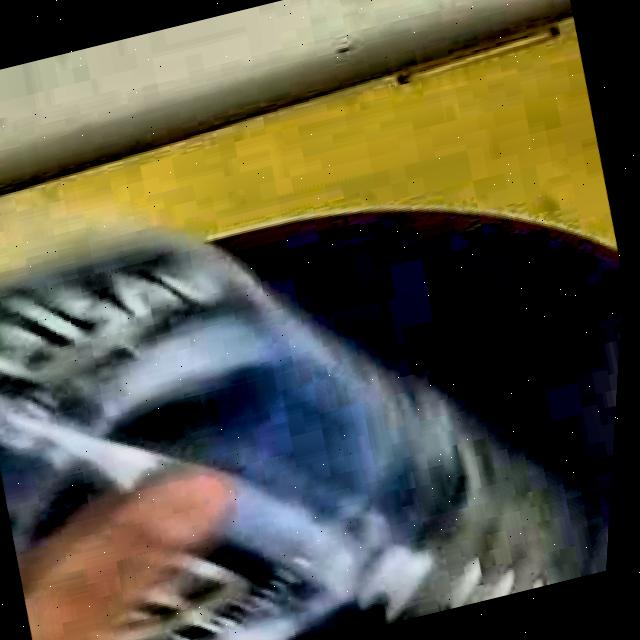plastic: (0, 210, 615, 640)
